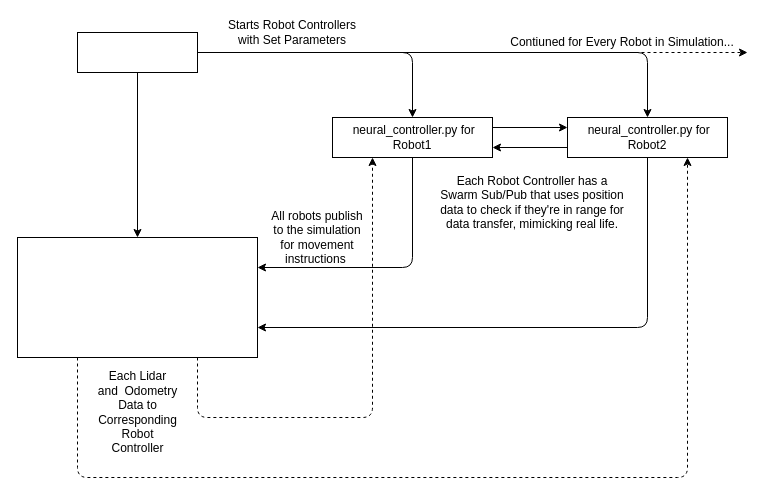
Image size: 773x503. Some labels were removed from this diagram. Each missing label, with the centre of its shape:
Gazebo Simulation: (x=137, y=297)
r_neural.launch.py: (x=137, y=52)
